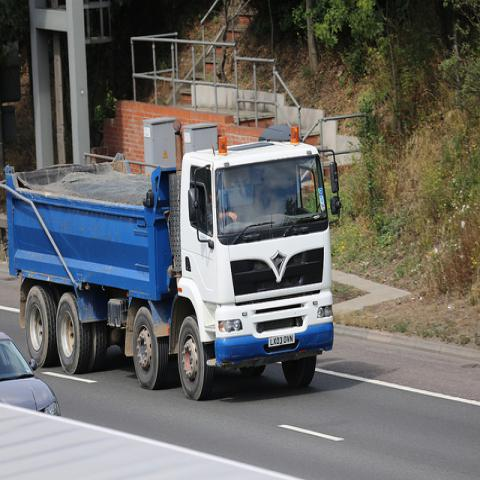car: (0, 332, 63, 416)
truck: (6, 138, 344, 402)
